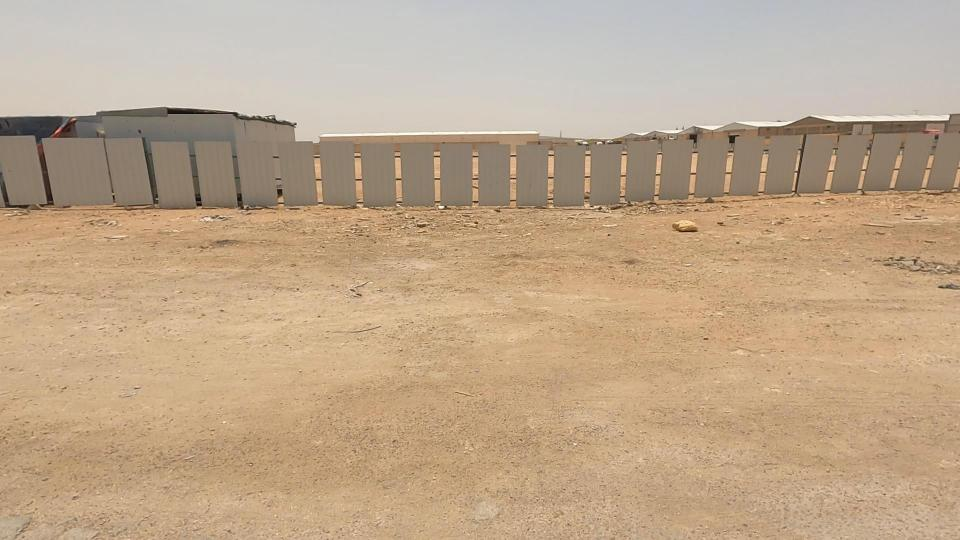GARBAGE: (560, 180, 644, 245), (645, 206, 730, 258)
